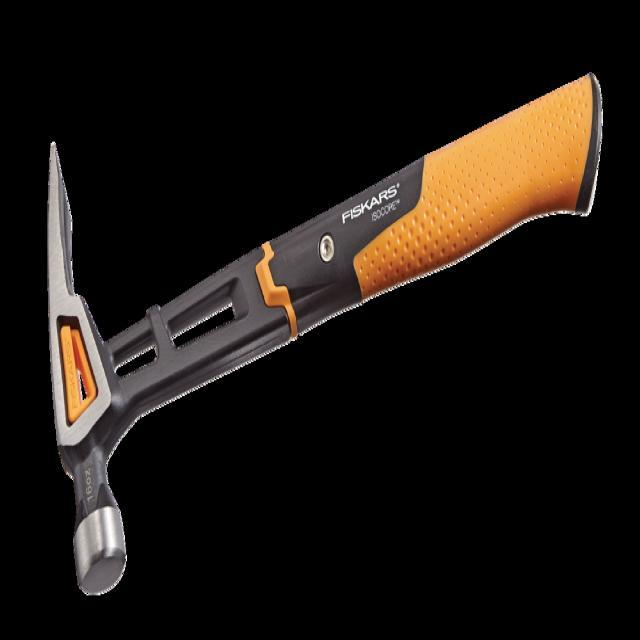hammer: (42, 64, 606, 602)
